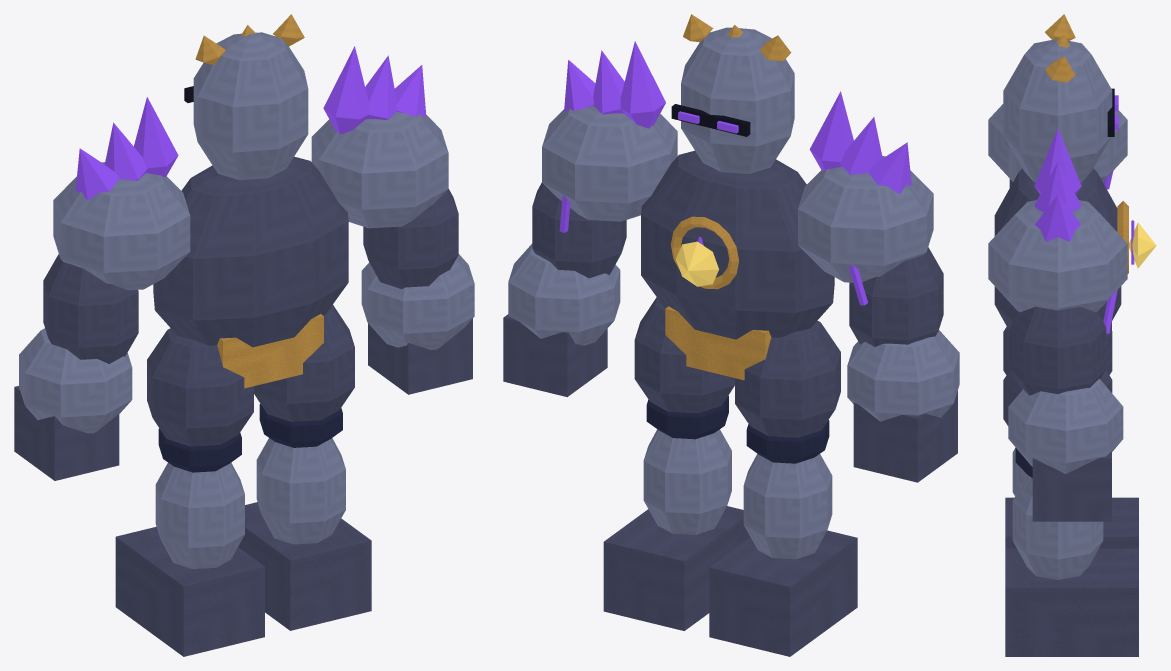
The model's file is boss.glb.
3 renders of one model, left to right at view 1: azimuth 30°, elevation 25°; view 2: azimuth 150°, elevation 25°; view 3: azimuth 270°, elevation 25°, orthographic.
Parts seen in each view (by area): view 1: boss; view 2: boss; view 3: boss.
Boxes of the visible parts, x1=… form: boss: x1=14, y1=14, x2=474, y2=656; boss: x1=503, y1=14, x2=959, y2=656; boss: x1=988, y1=14, x2=1156, y2=656.
Size of the model in its own units: 4.74 by 6 by 1.59.
Materials: 1 (1 with a texture image).
